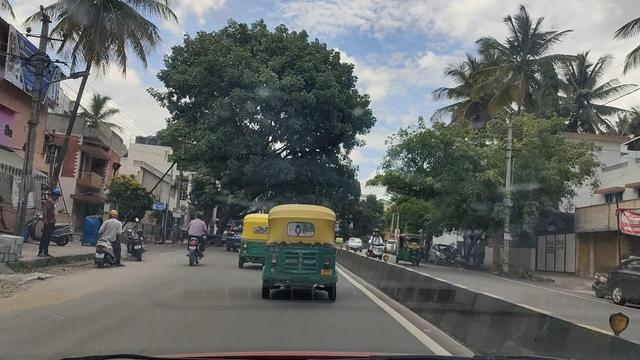LMV: (267, 200, 337, 305), (176, 213, 214, 270), (92, 209, 124, 274), (240, 213, 268, 267)
